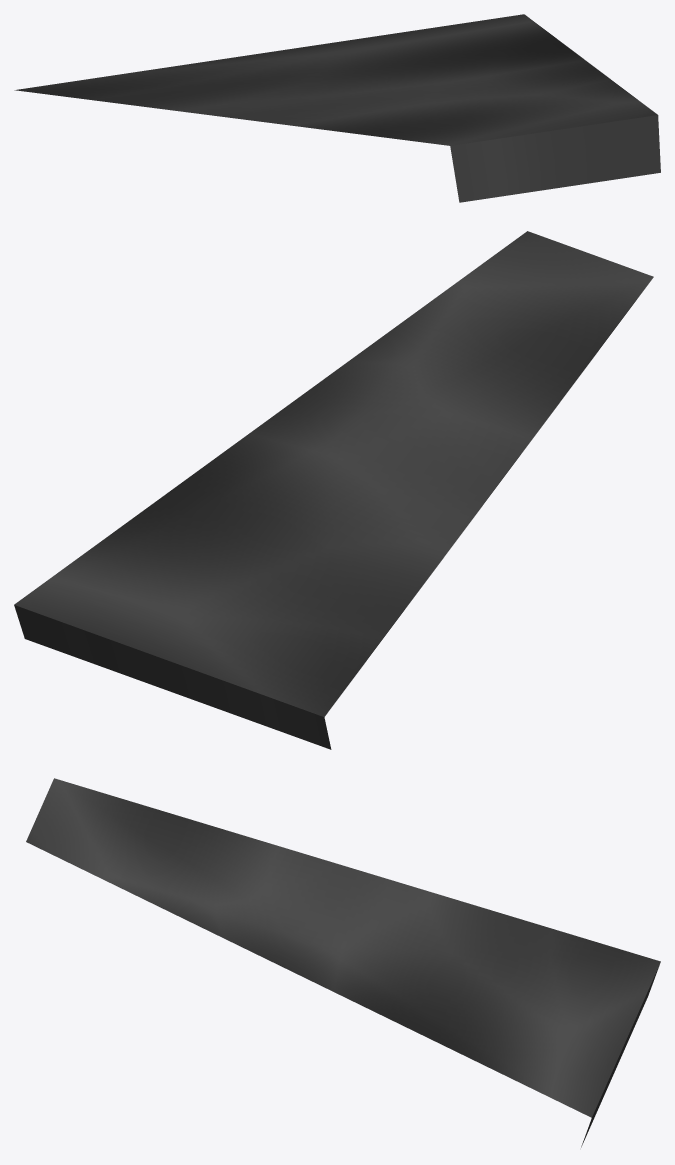
File: DHD_Key_Inner.glb
The picture shows the model from 3 angles, top to bottom: view 1: azimuth 30°, elevation 25°; view 2: azimuth 150°, elevation 25°; view 3: azimuth 270°, elevation 25°; orthographic projection. The views are drawn at different scales.
Visible parts, largest first — view 1: Keys_Inner; view 2: Keys_Inner; view 3: Keys_Inner.
Boxes of the visible parts, x1,y1,x2,y2 form: Keys_Inner: (14,14,660,202); Keys_Inner: (14,231,653,749); Keys_Inner: (26,778,660,1147).
Size of the model in its own units: 0.1829 by 0.119 by 0.3198.
Materials: 1 (1 with a texture image).
